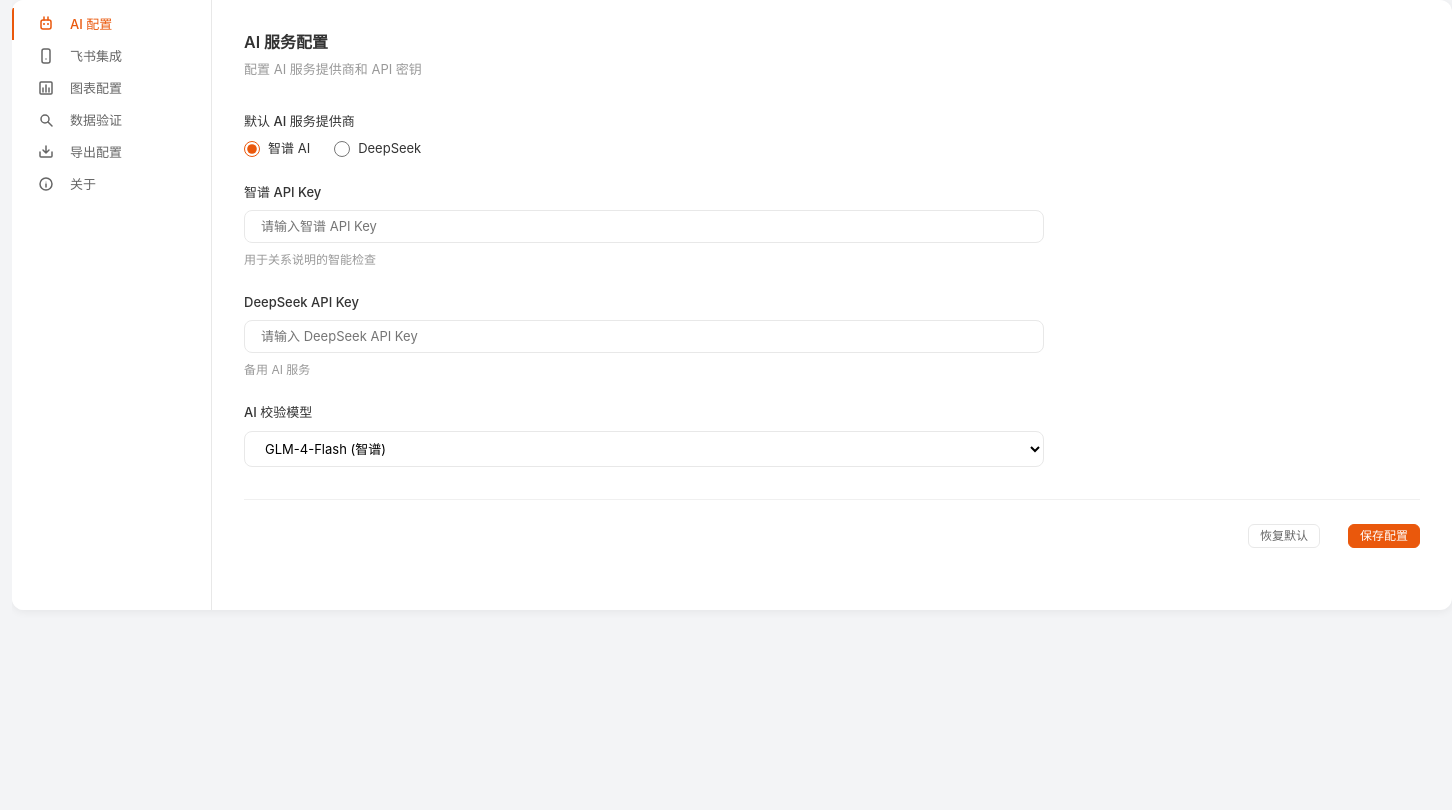
Test: SystemSettings › 菜单切换 › 点击数据验证应该显示验证设置
Step 1. Click the menu item with class "ss-nav-item" showing "数据验证" → (112, 120), box [12, 104, 211, 136]
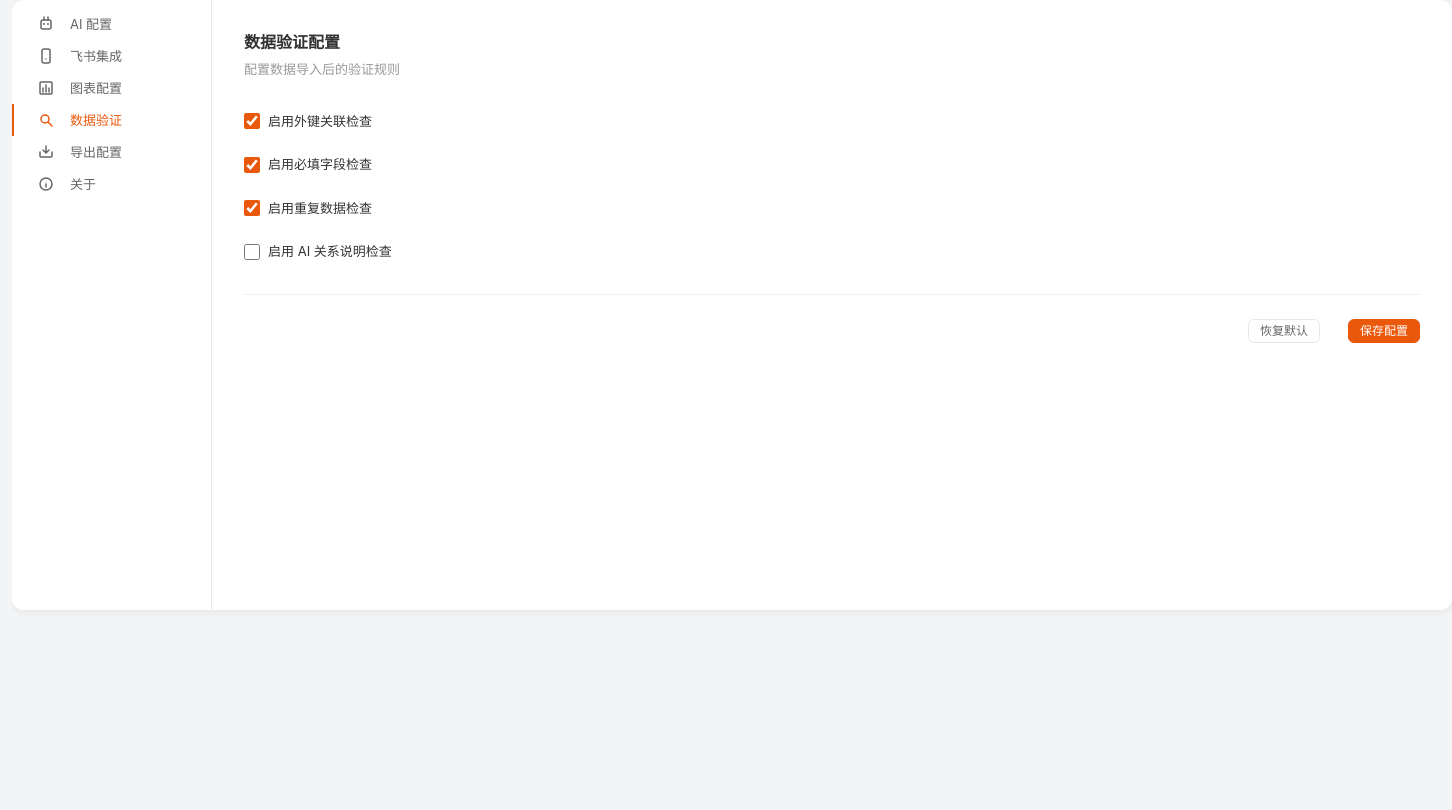
Check: the heading with class "section-title" reads "数据验证配置", box [244, 32, 340, 52]
